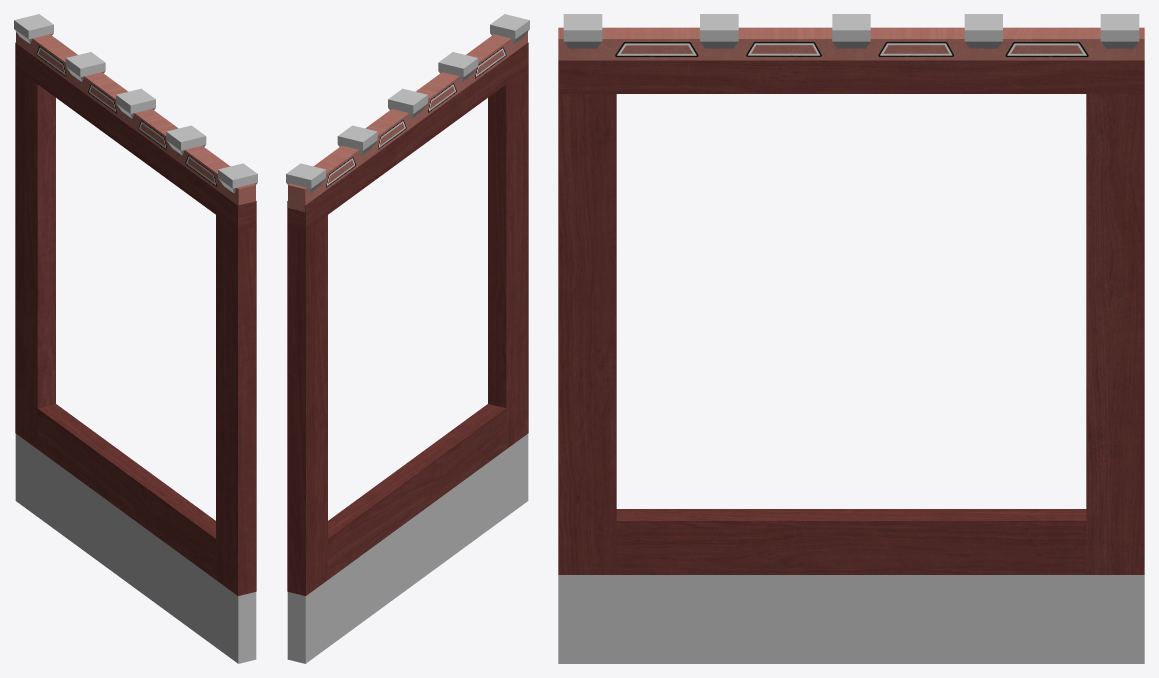
The model's file is SM_Wall05E.fbx.
3 renders of one model, left to right at view 1: azimuth 30°, elevation 25°; view 2: azimuth 150°, elevation 25°; view 3: azimuth 270°, elevation 25°, orthographic. The views are drawn at different scales.
Parts seen in each view (by area): view 1: SM_Wall05E; view 2: SM_Wall05E; view 3: SM_Wall05E.
Boxes of the visible parts, x1=… form: SM_Wall05E: x1=14, y1=14, x2=257, y2=663; SM_Wall05E: x1=286, y1=14, x2=529, y2=663; SM_Wall05E: x1=558, y1=14, x2=1144, y2=663.
Bounding box in the file's own units: 16.08 × 245 × 293.
